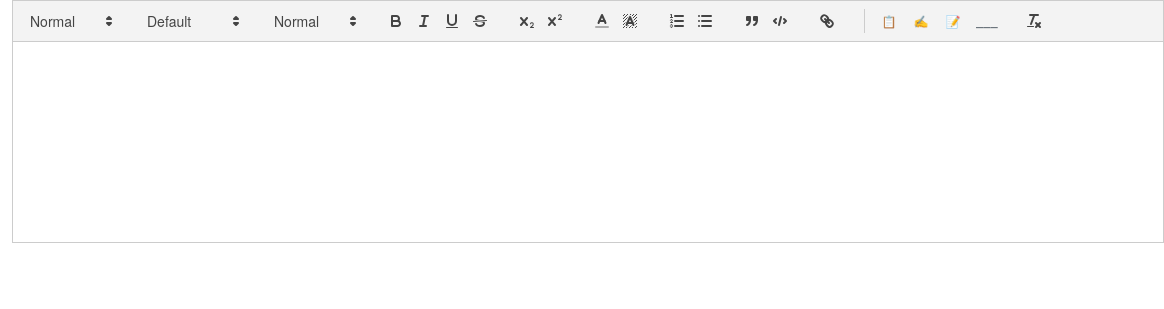
Scenario: QuillEditor TDD - RED Phase (Expecting Failures) › 🔴 Placeholder Insertion Failures › should prevent duplicate version tables
// Try to insert version table twice
Click the button with test id "insert-version-table": (889, 21) [875,9,903,33]
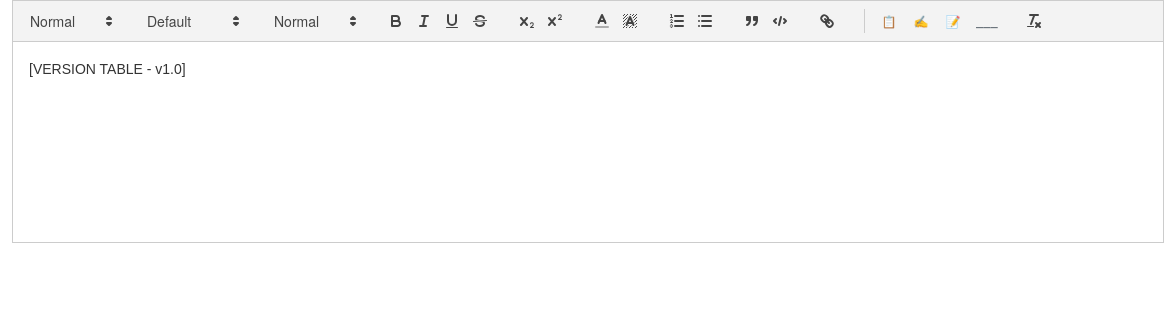
Click the button with test id "insert-version-table": (889, 21) [875,9,903,33]
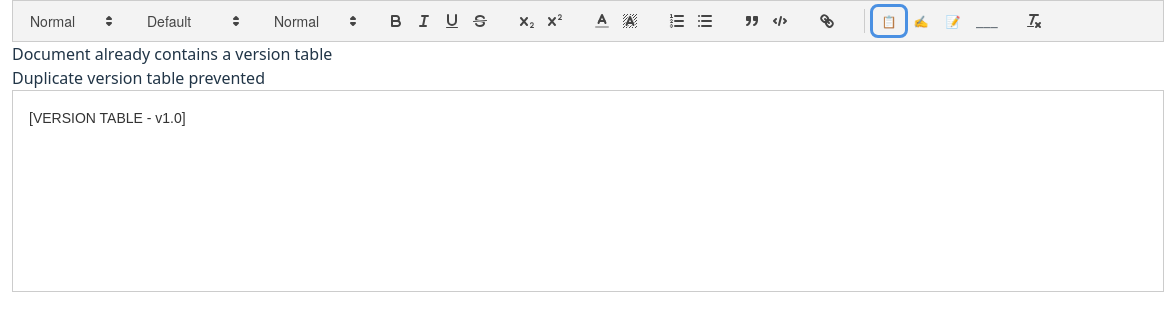
Expected: the text "Duplicate version table prevented" is shown, [12,67,265,89]
